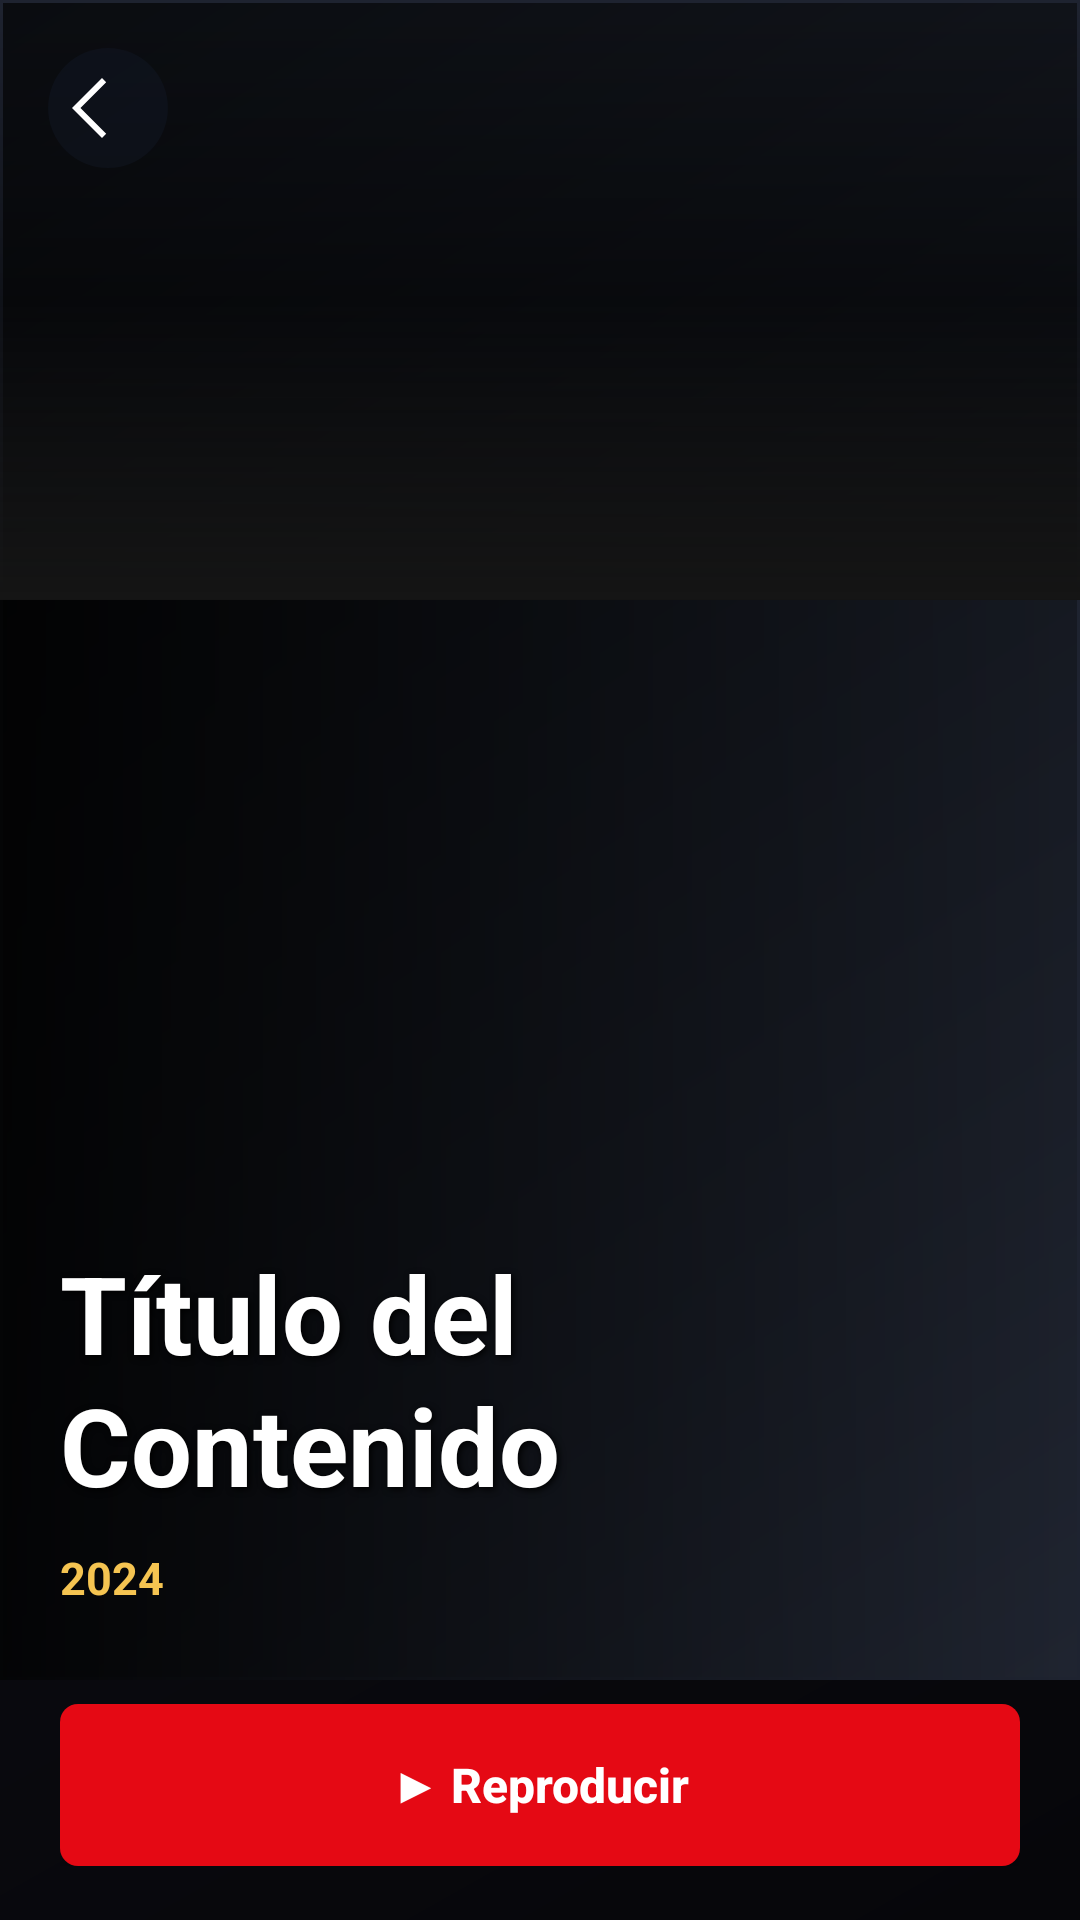

Where icons sit on this 1080×1920 app screen, as region(x1, y1, x2, y2):
Volver: region(72, 78, 106, 138)
